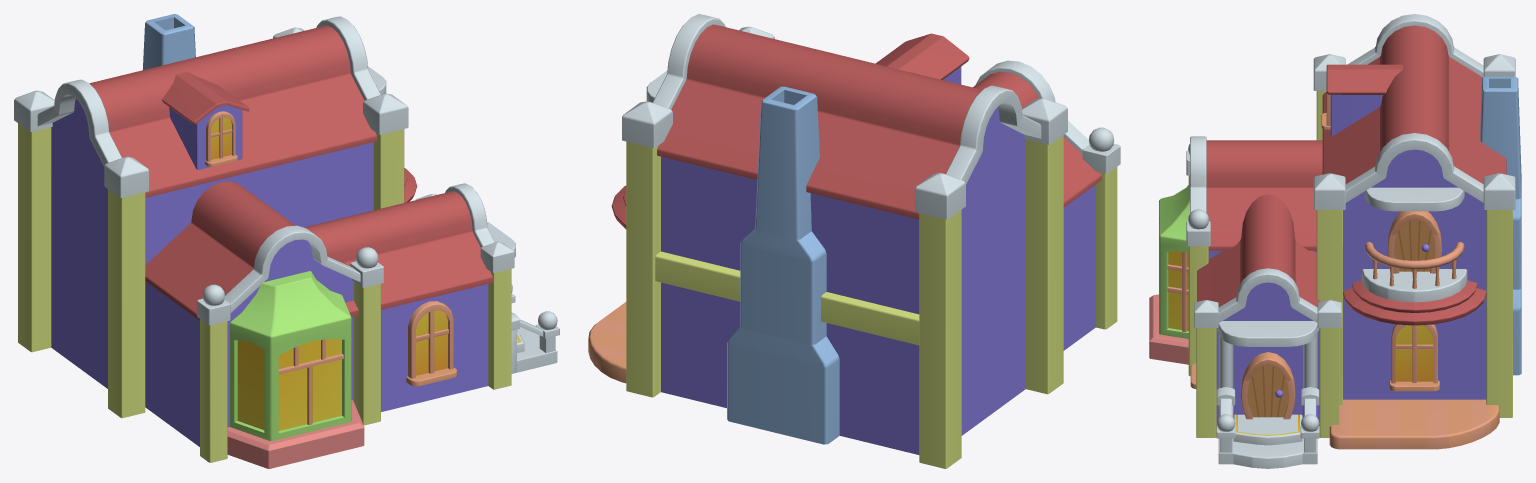
File: Manor_04_lvl.fbx
The picture shows the model from 3 angles, left to right: view 1: azimuth 30°, elevation 25°; view 2: azimuth 150°, elevation 25°; view 3: azimuth 270°, elevation 25°; orthographic projection. The views are drawn at different scales.
Visible parts, largest first — view 1: Circle.020; view 2: Circle.020; view 3: Circle.020.
Boxes of the visible parts, box(x1,y1,x2,y2) form: Circle.020: box(14, 14, 559, 468); Circle.020: box(588, 14, 1120, 468); Circle.020: box(1149, 14, 1521, 468).
Bounding box in the file's own units: 1354 × 957 × 1169.
